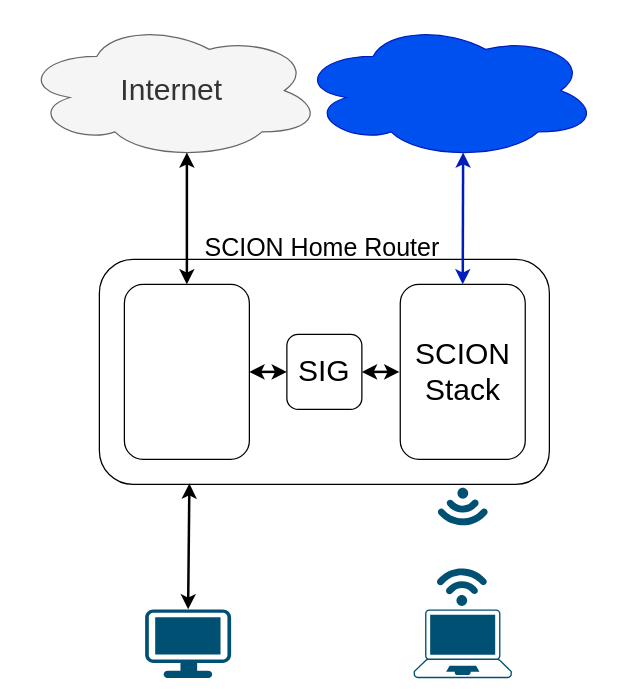
This 620x700 diagram has some shape labels left out. Here are the shapes that lost their labels. From the top down, the box of each, then its label:
(297, 21, 598, 159): SCION
(123, 283, 249, 459): IP Stack
